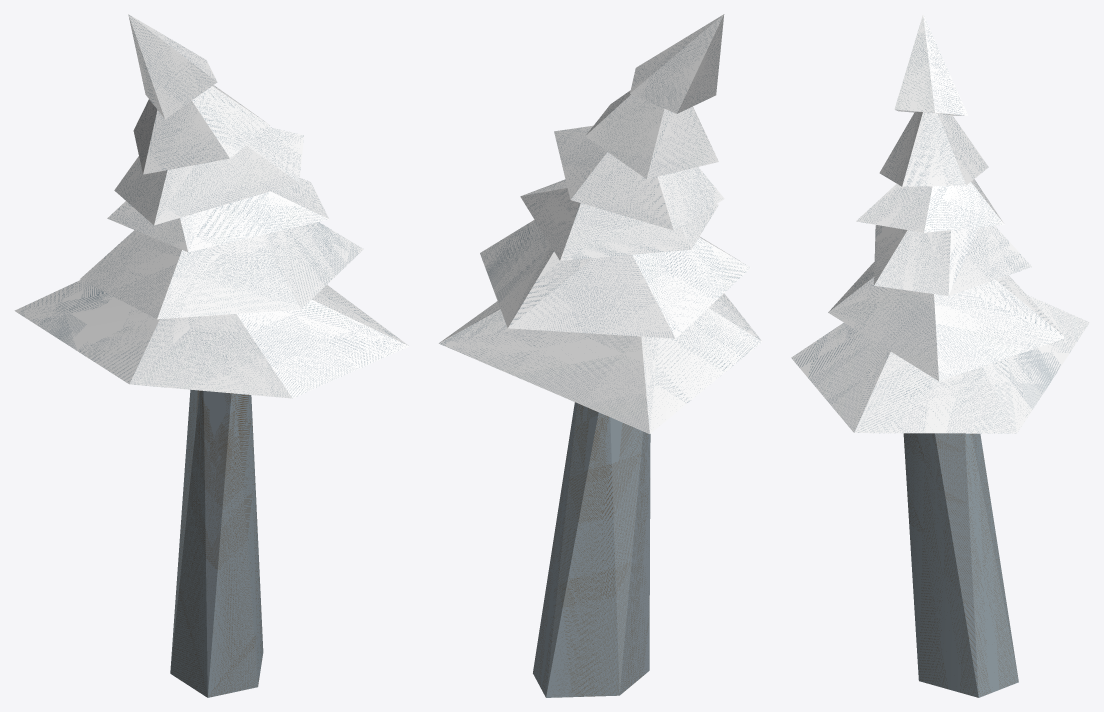
The model's file is Tree_Pine_Snow_Tall_06.fbx.
3 views of the same model, side by side, from view 1: azimuth 30°, elevation 25°; view 2: azimuth 150°, elevation 25°; view 3: azimuth 270°, elevation 25° (orthographic). The views are drawn at different scales.
Parts seen in each view (by area): view 1: Model; view 2: Model; view 3: Model.
Boxes of the visible parts, box(x1,y1,x2,y2) form: Model: box(14, 14, 409, 697); Model: box(438, 14, 762, 697); Model: box(791, 14, 1089, 697).
Bounding box in the file's own units: 585 × 1486 × 657.
